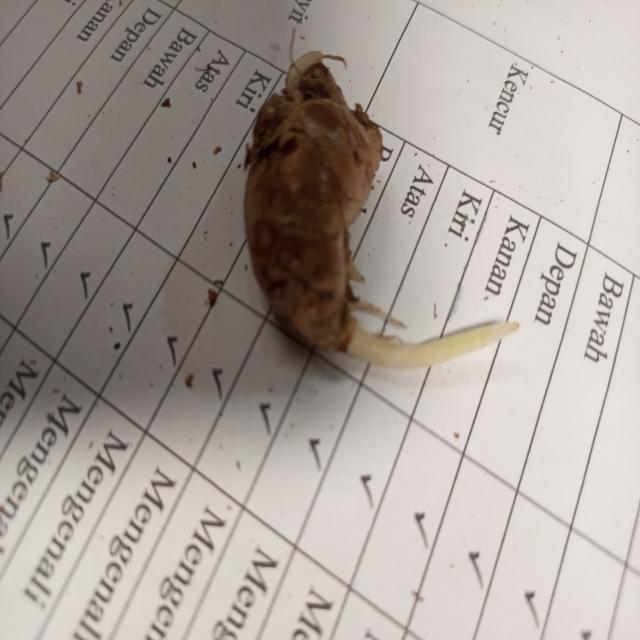ginger: (264, 73, 382, 341)
